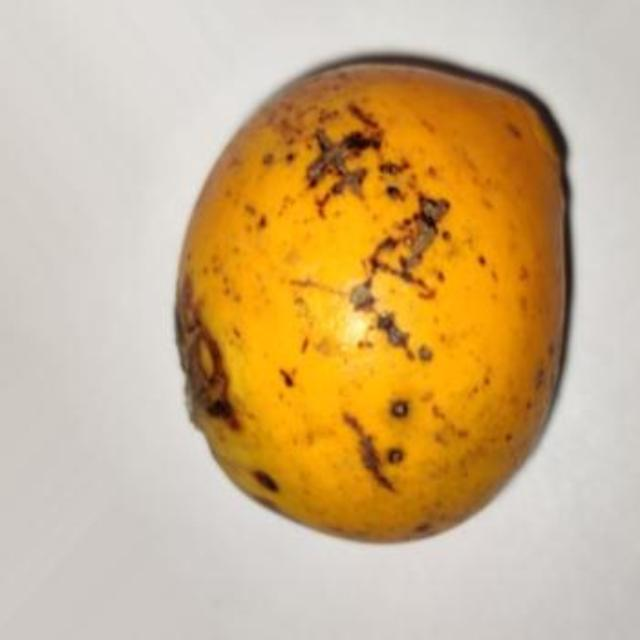good: (174, 57, 574, 547)
